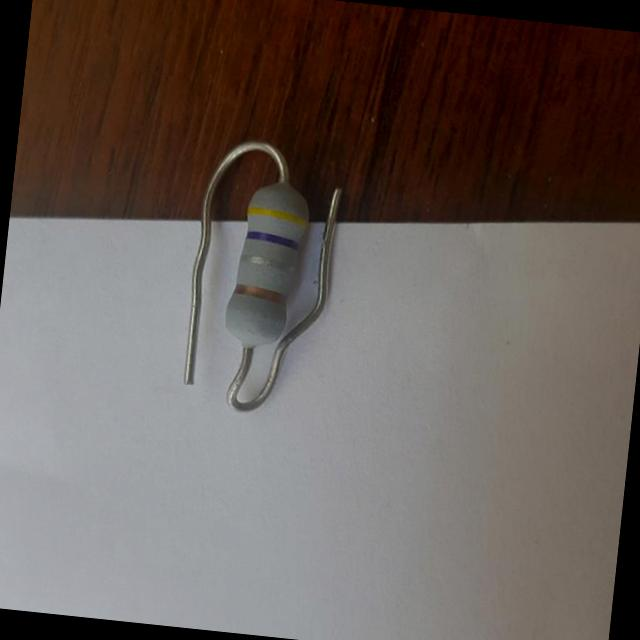Resistor: (226, 182, 308, 348)
gold: (232, 283, 287, 302)
purple: (244, 229, 299, 249)
silver: (237, 254, 301, 271)
yellow: (245, 205, 308, 227)
